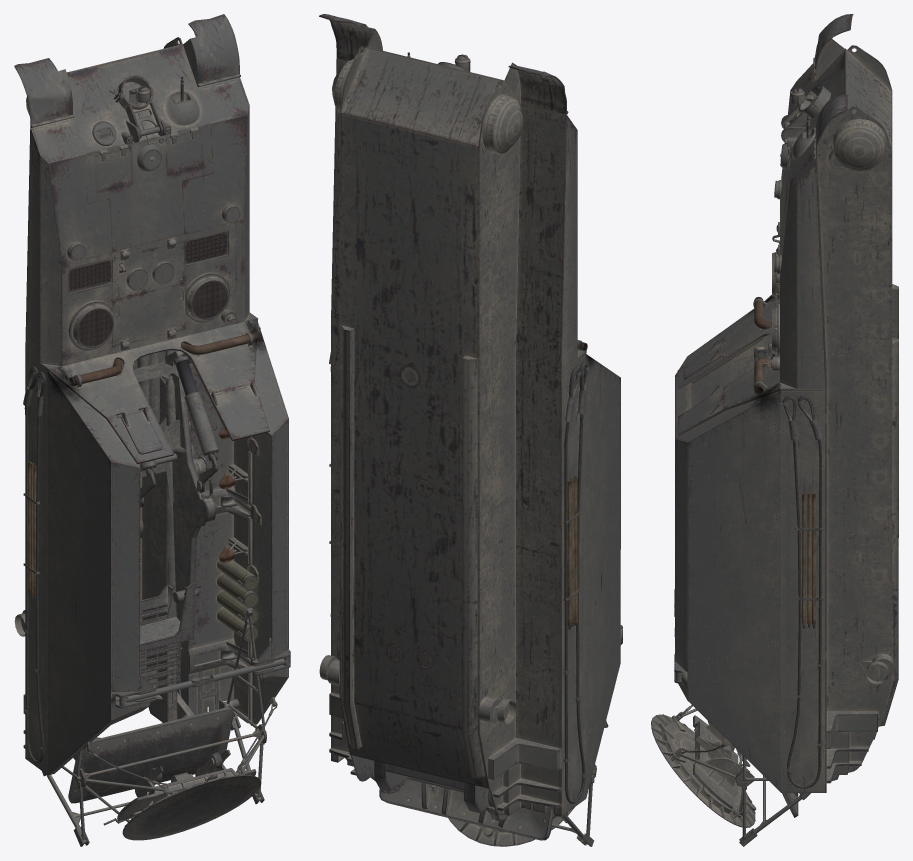
Rendered from Hull.glb.
3 renders of one model, left to right at view 1: azimuth 30°, elevation 25°; view 2: azimuth 150°, elevation 25°; view 3: azimuth 270°, elevation 25°, orthographic. The views are drawn at different scales.
Parts seen in each view (by area): view 1: set_0_group_0, set_0_group_1; view 2: set_0_group_0, set_0_group_1; view 3: set_0_group_0.
Part boxes in pixels (<box>): set_0_group_0: <box>14,14,290,846</box>; set_0_group_1: <box>112,350,218,722</box>; set_0_group_0: <box>319,14,622,846</box>; set_0_group_1: <box>374,761,491,814</box>; set_0_group_0: <box>651,14,898,846</box>.
Size of the model in its own units: 3.23 by 10.74 by 3.18.
2 materials, 2 textured.
